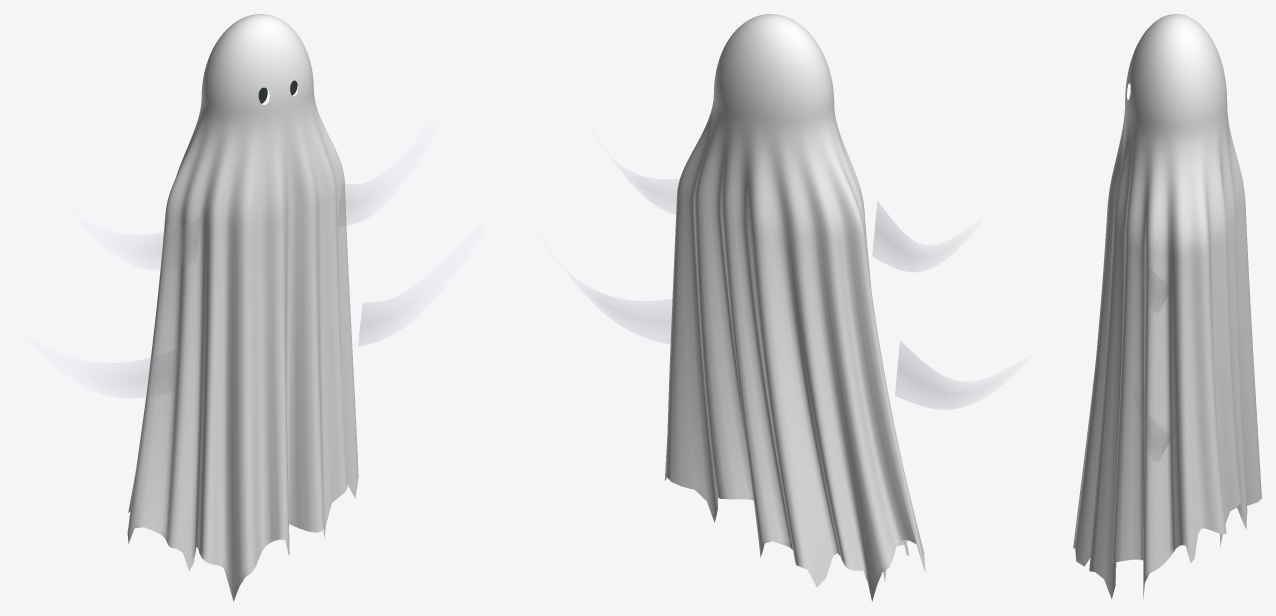
File: momo.glb
The picture shows the model from 3 angles, left to right: view 1: azimuth 30°, elevation 25°; view 2: azimuth 150°, elevation 25°; view 3: azimuth 270°, elevation 25°; orthographic projection. The views are drawn at different scales.
Parts seen in each view (by area): view 1: Cinematic_Momo_Shroud; view 2: Cinematic_Momo_Shroud; view 3: Cinematic_Momo_Shroud.
Boxes of the visible parts, x1=… form: Cinematic_Momo_Shroud: x1=70, y1=14, x2=440, y2=601; Cinematic_Momo_Shroud: x1=587, y1=14, x2=983, y2=601; Cinematic_Momo_Shroud: x1=1073, y1=14, x2=1261, y2=598.
Size of the model in its own units: 2.04 by 2.21 by 0.6363.
3 materials, 1 textured.
